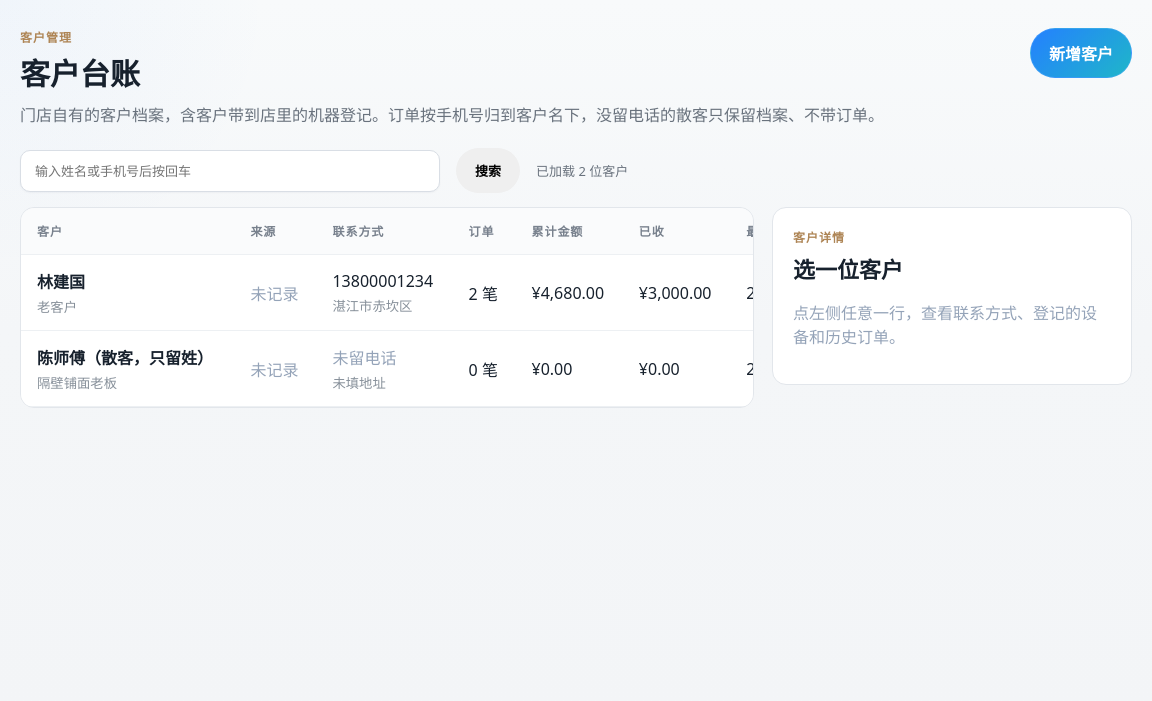
Scenario: 客户详情与设备 › 快速切换客户时忽略较早返回的详情响应
Click the text "林建国": (61, 282) [37, 271, 85, 293]
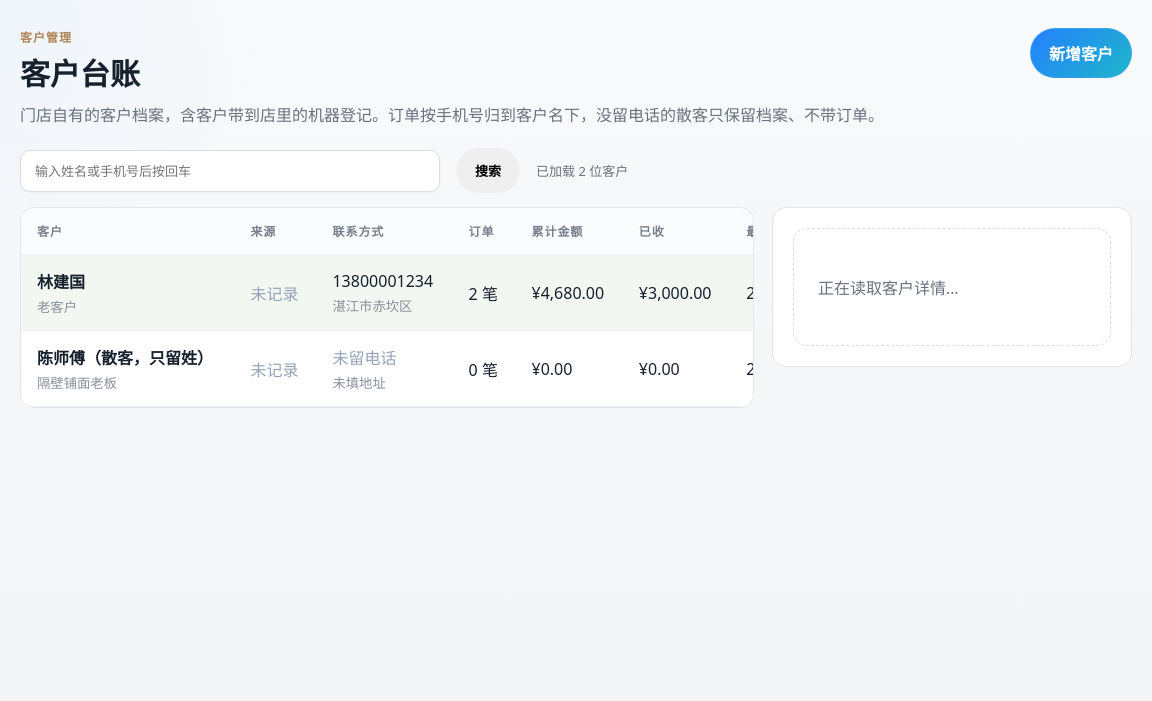
Click the text "陈师傅（散客，只留姓）": (125, 358) [37, 347, 213, 369]
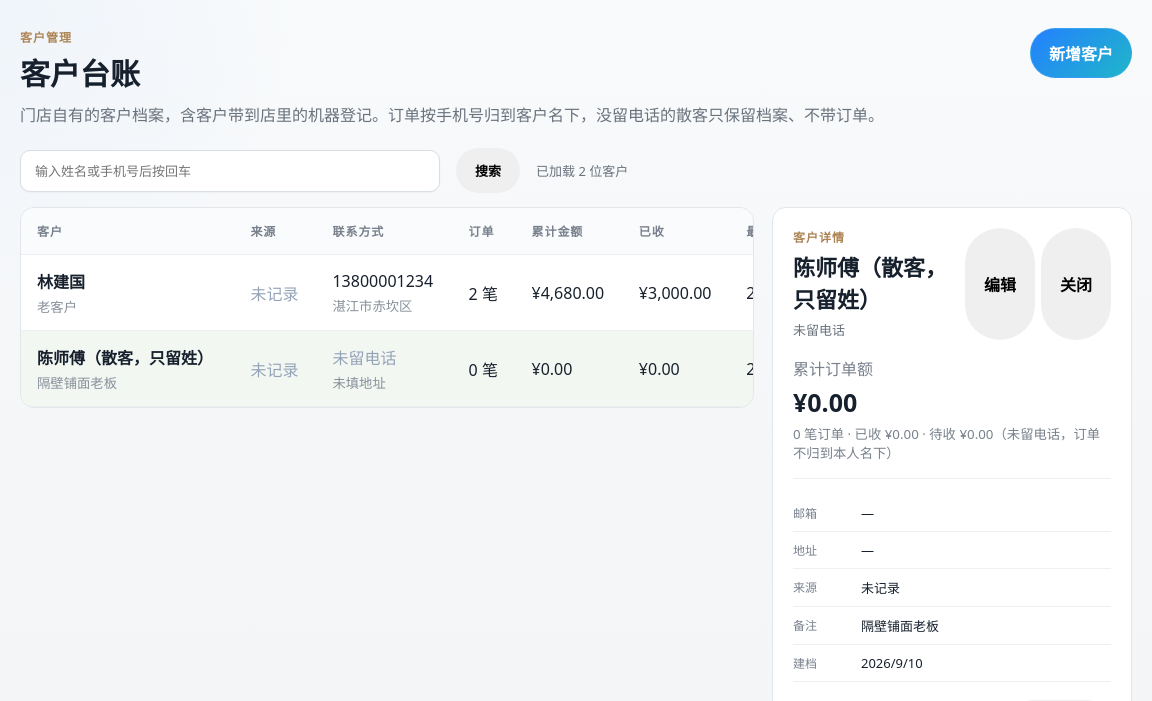
Check: the heading "陈师傅（散客，只留姓）" is shown, box [793, 250, 953, 314]
